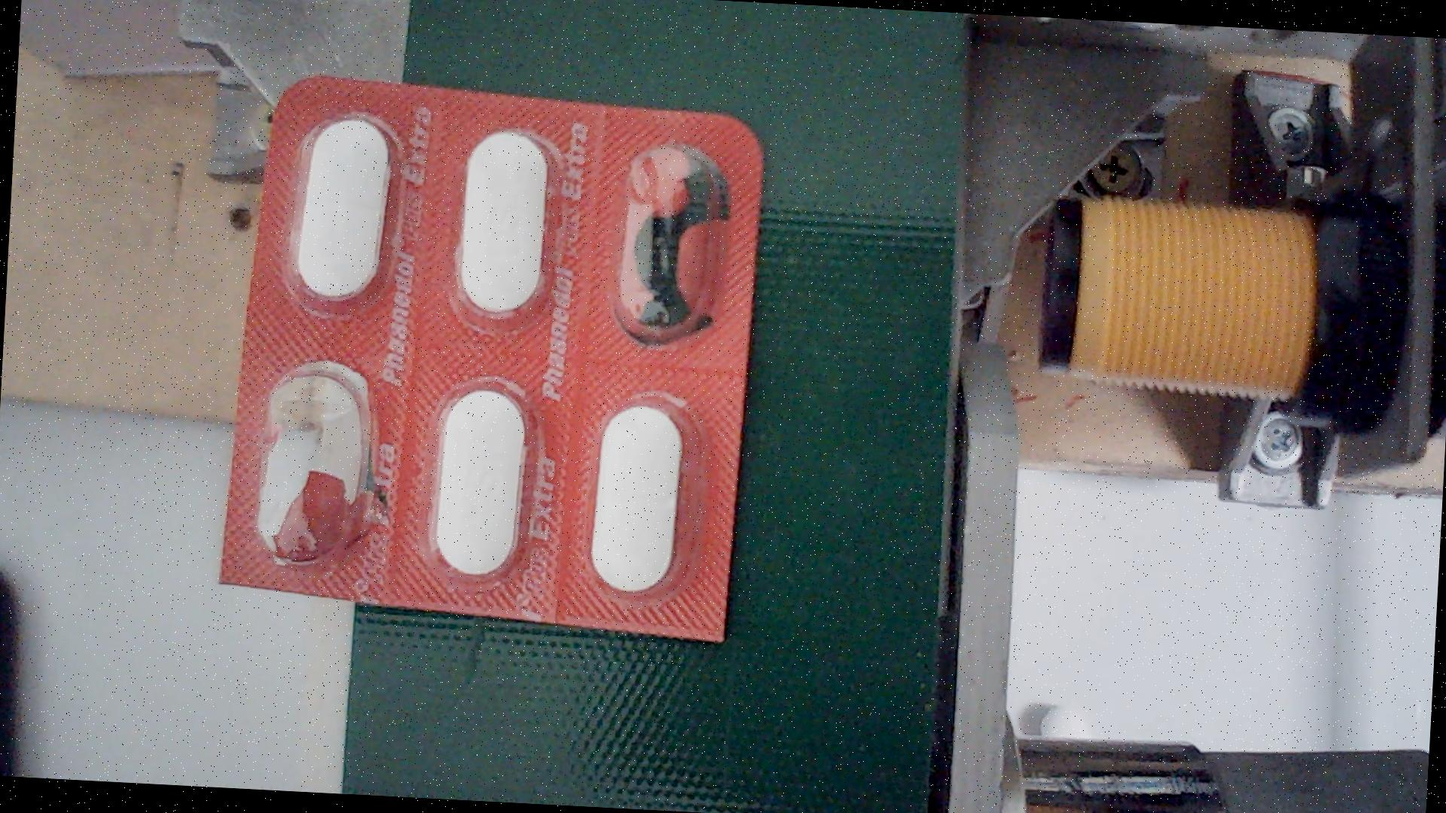Empty: (600, 132, 736, 354), (244, 352, 380, 574)
Full: (272, 98, 408, 321), (562, 383, 698, 605), (414, 372, 550, 594), (432, 114, 568, 336)
